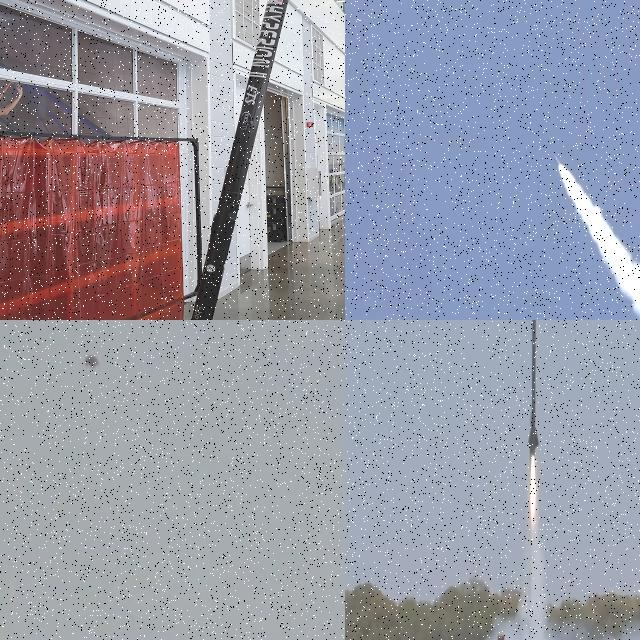Rocket: (192, 0, 288, 320), (527, 320, 540, 452), (80, 348, 100, 372), (554, 155, 561, 166)
